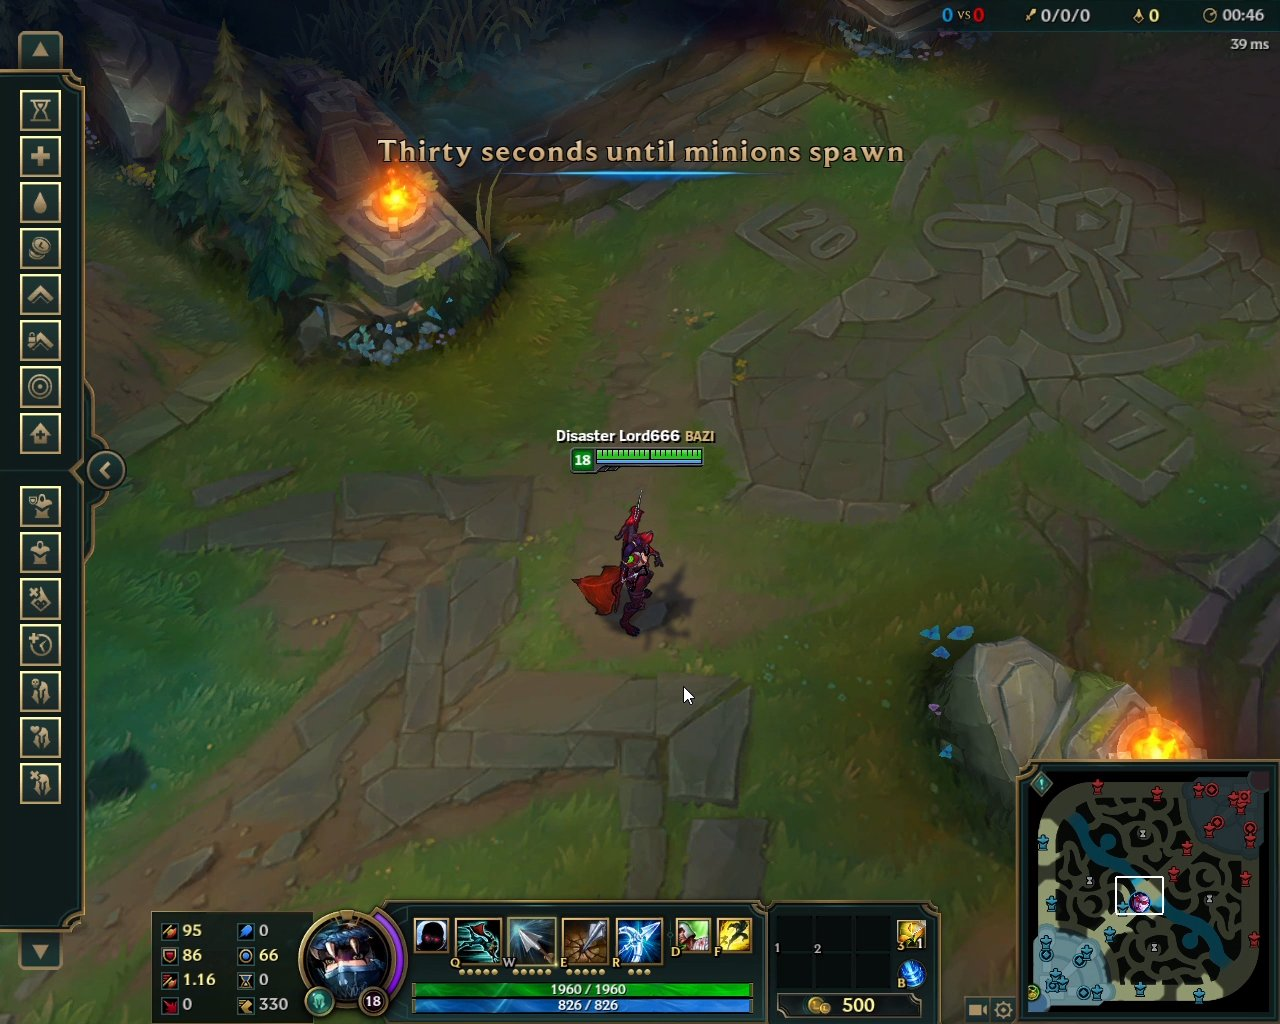Vayne: (568, 490, 672, 644)
